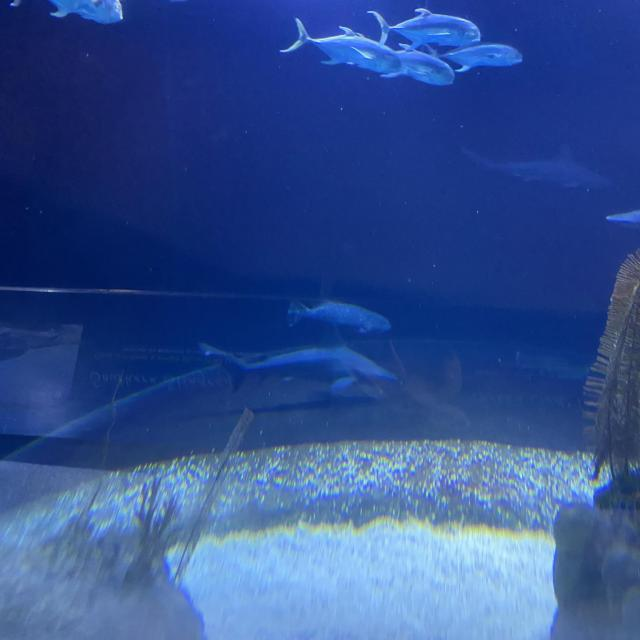fish: (286, 19, 400, 73), (372, 11, 484, 48), (291, 297, 393, 335), (5, 0, 133, 29), (383, 42, 455, 92), (438, 38, 526, 70)
shark: (190, 333, 420, 399), (457, 146, 603, 194)
